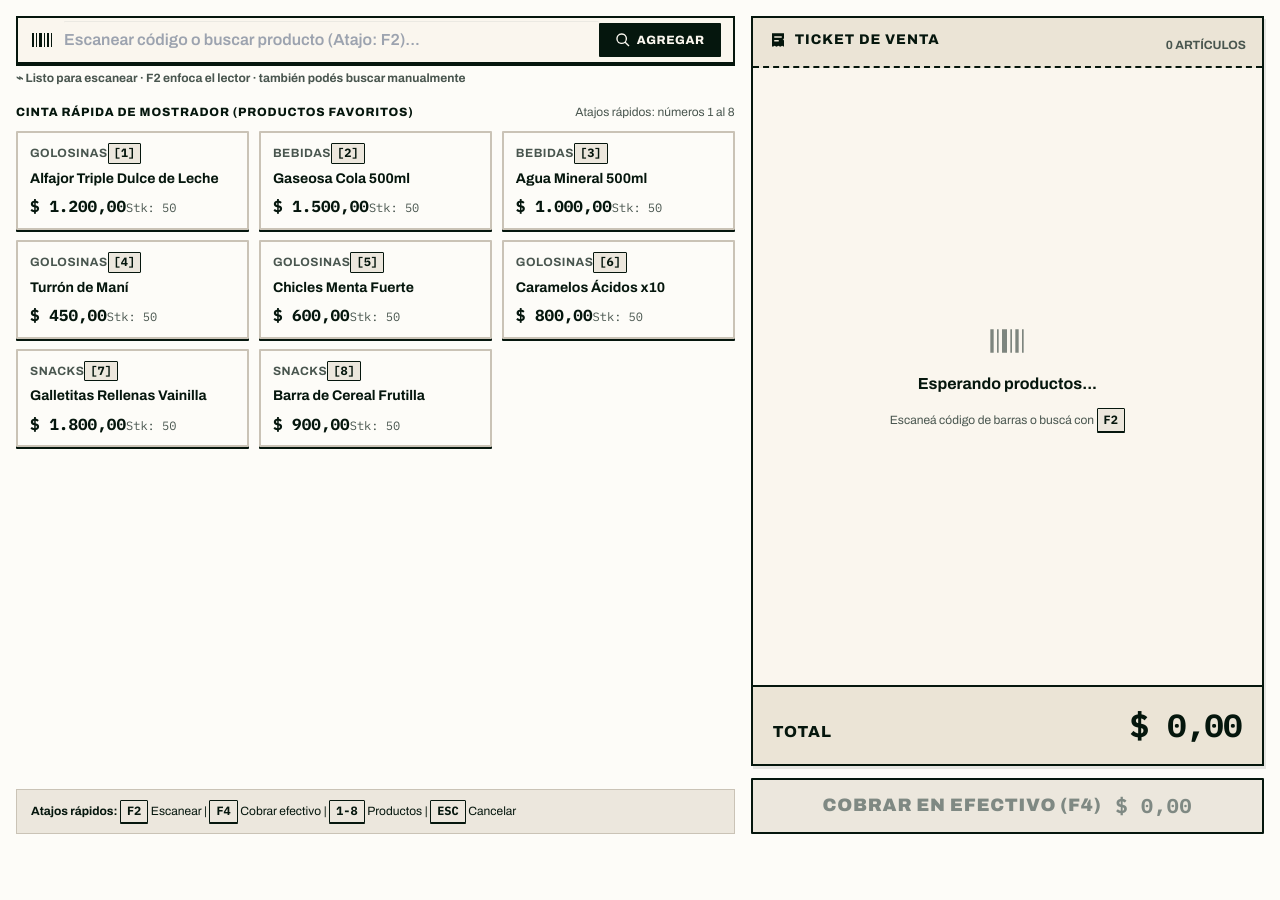
it: SalesScreen Operational Flow › opens cash tender modal on cobrar button click
Add product
What coordinates should you click on to do the following:
click the text "Gaseosa Cola 500ml"
I would click on:
 (342, 179)
Its box is [273, 170, 410, 188].
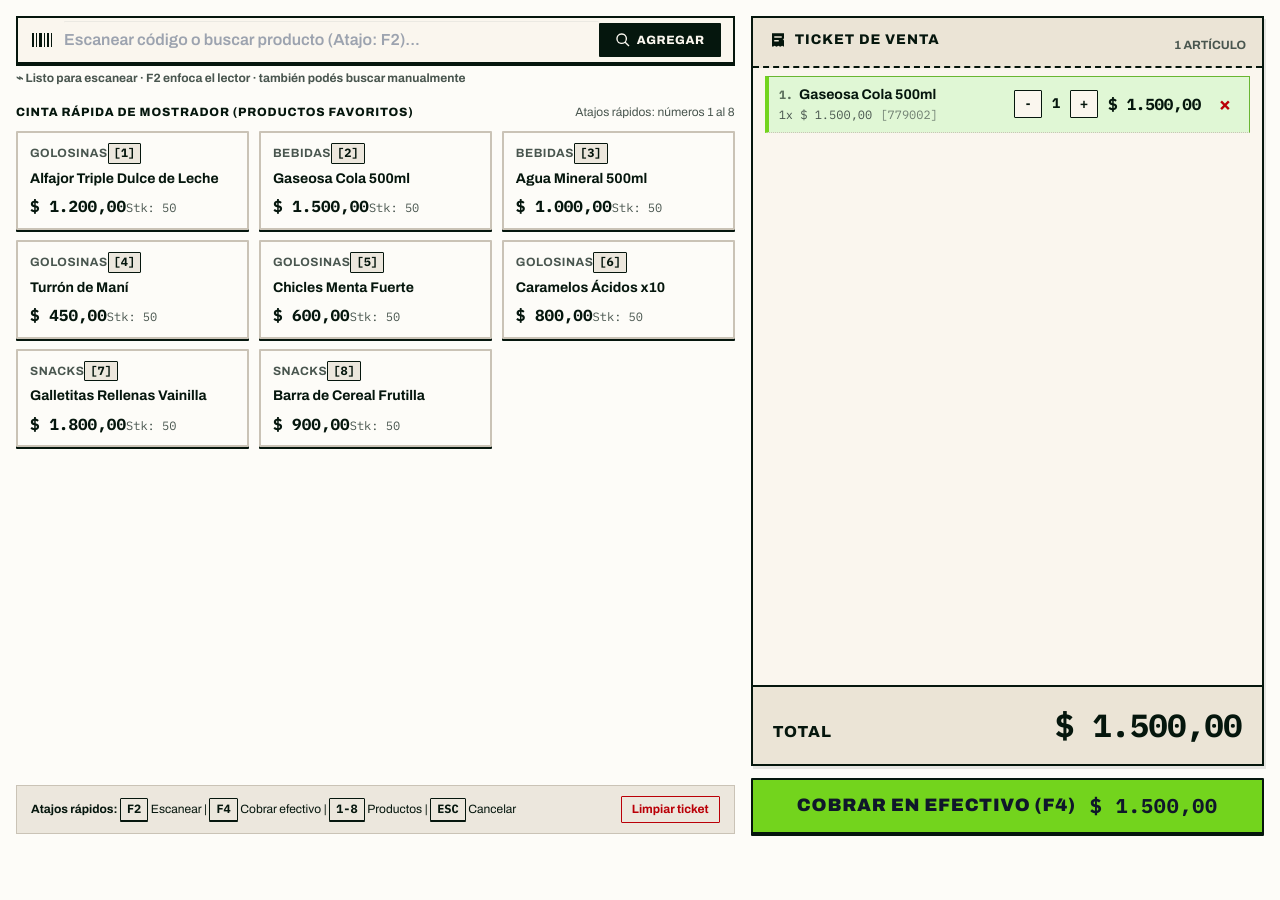
Click Cobrar
What coordinates should you click on to do the following:
click the text "COBRAR EN EFECTIVO (F4)"
I would click on:
 (936, 806)
Its box is [797, 793, 1076, 819].
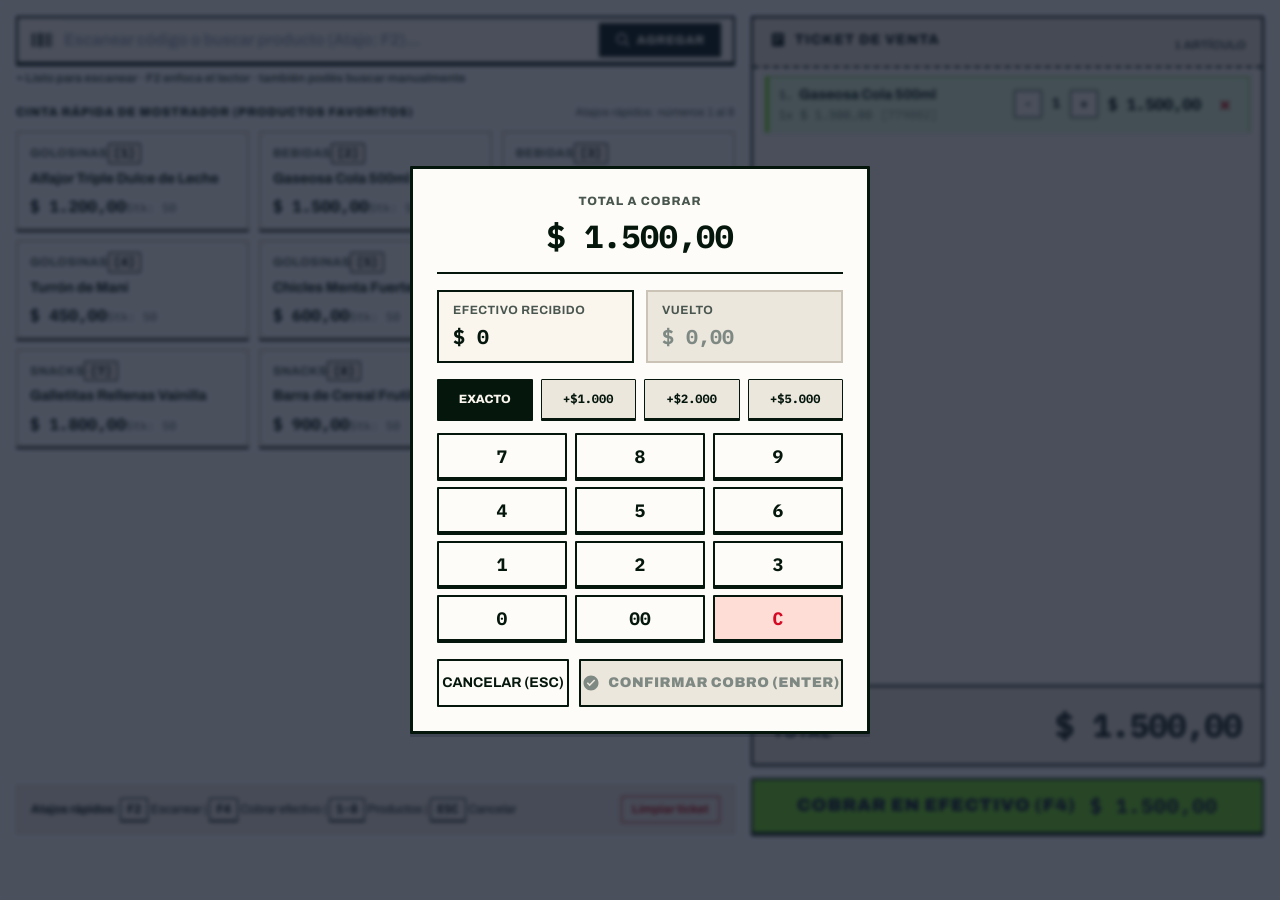
Expected: the text "TOTAL A COBRAR" is shown, [579, 194, 701, 208]
Expected: the text "Efectivo Recibido" is shown, [453, 303, 585, 317]
